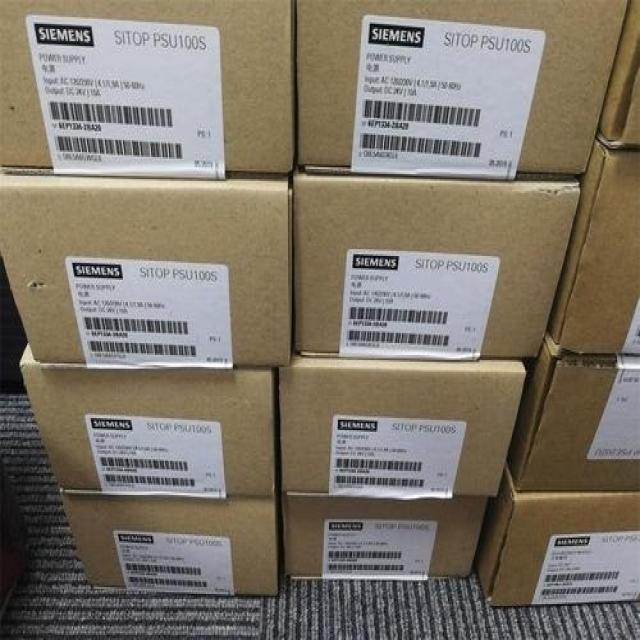box: (294, 1, 627, 178), (1, 172, 291, 364), (291, 177, 581, 361), (0, 0, 294, 175), (19, 344, 275, 495), (273, 360, 525, 497), (476, 461, 639, 605), (59, 490, 278, 594), (505, 328, 639, 491), (550, 135, 639, 355), (279, 490, 487, 579), (595, 2, 639, 152)
